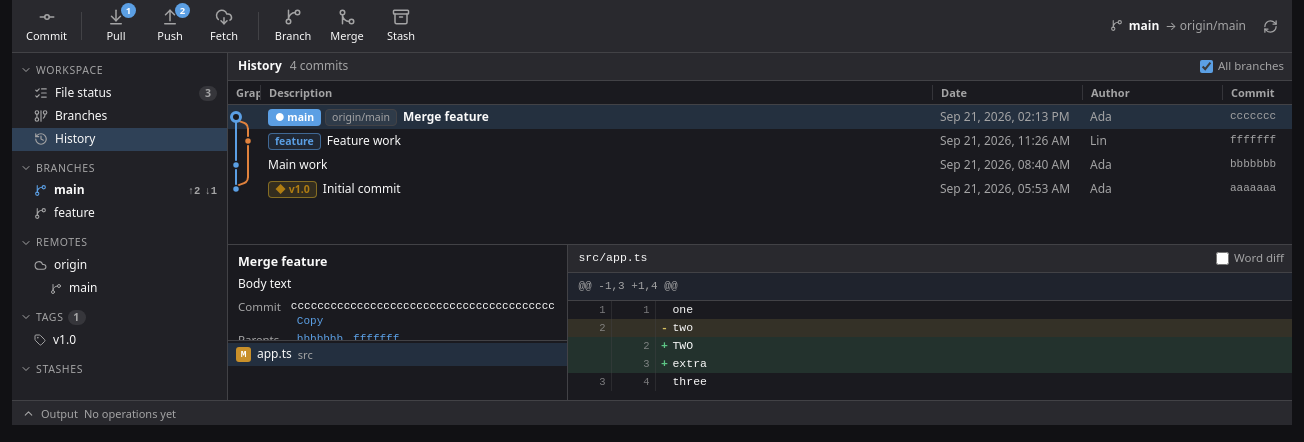
Repository view: History › renders the graph and ref chips, and loads a selected commit's detail and files
Expected: the text with class "rl-git-chip" shows "v1.0", [289, 182, 310, 196]
Click the row with class "rl-git-row" that starts with "Main work". click: (244, 165)
box: [228, 153, 1292, 177]
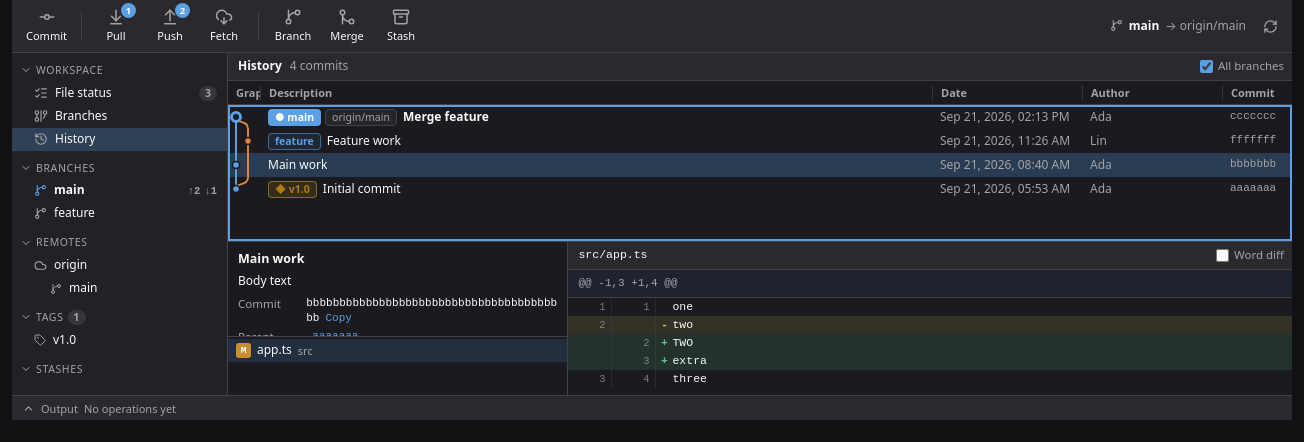
Expected: the element with class "rl-git-line" shows "TWO", [672, 336, 693, 349]
Result: the element with class "rl-git-detail" shows "Main work" at [238, 250, 304, 267]
